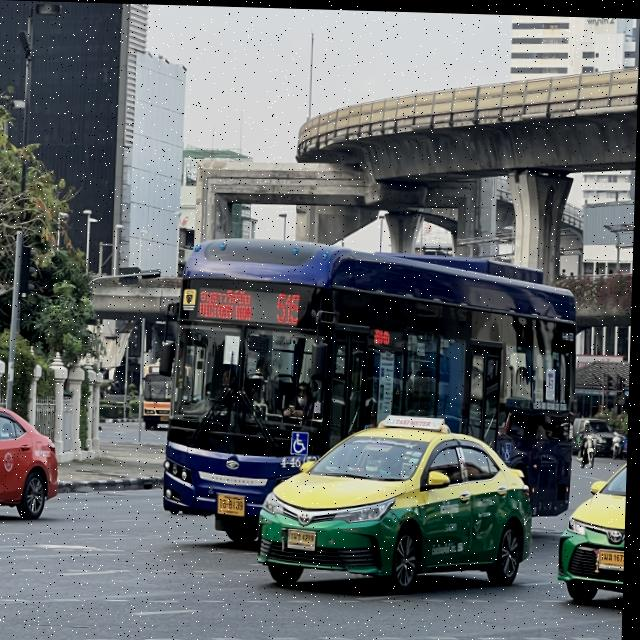Bus Line Number: (272, 286, 308, 327)
Bus Side Number: (282, 450, 321, 468)
Destination Sign: (198, 283, 257, 324)
TSB-Bus: (164, 237, 579, 544)
